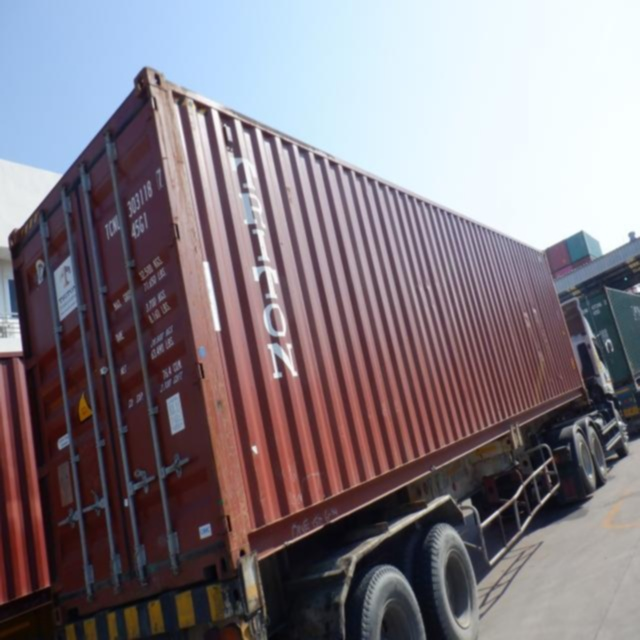Dent: (520, 304, 556, 366)
